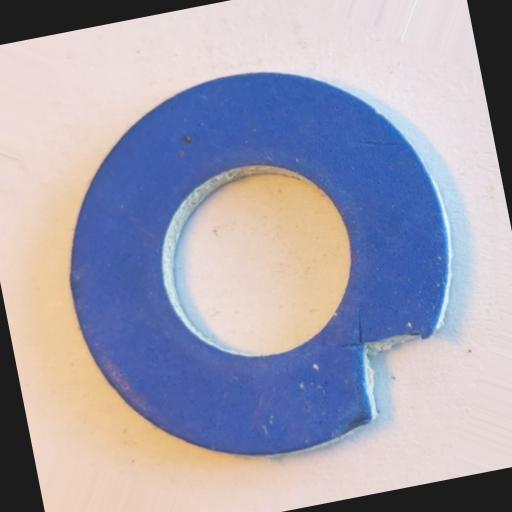defect: (337, 301, 440, 424)
